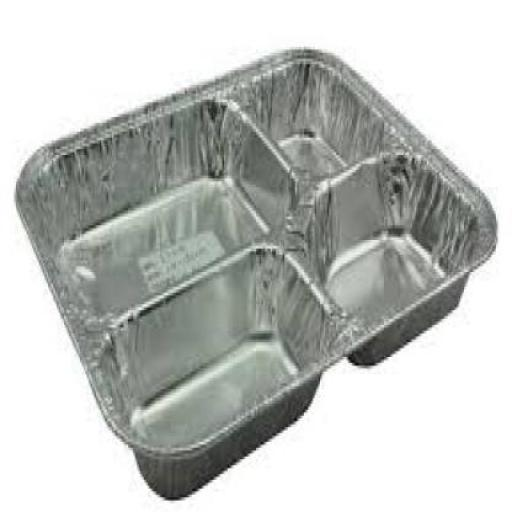metal: (10, 44, 496, 498)
